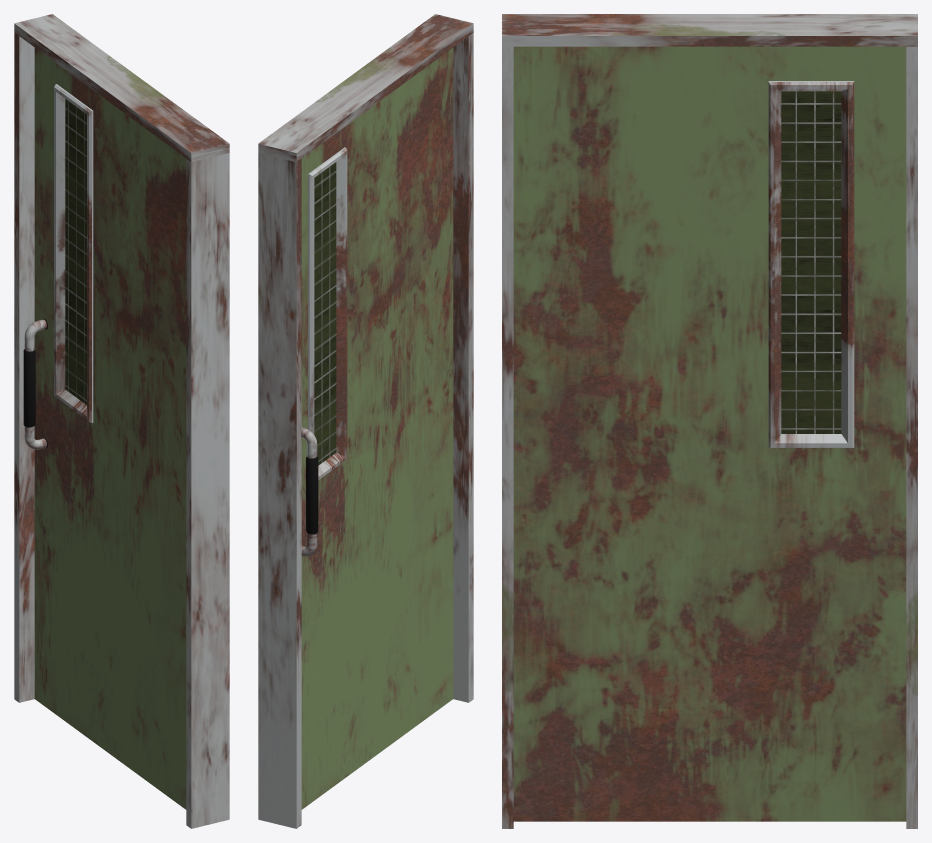
3 views of the same model, side by side, from view 1: azimuth 30°, elevation 25°; view 2: azimuth 150°, elevation 25°; view 3: azimuth 270°, elevation 25° (orthographic). The views are drawn at different scales.
Parts seen in each view (by area): view 1: PivotDoor006, Wide; view 2: PivotDoor006, Wide; view 3: PivotDoor006.
Boxes of the visible parts, box(x1,y1,x2,y2) form: PivotDoor006: box(14, 14, 229, 828); Wide: box(23, 319, 47, 449); PivotDoor006: box(258, 14, 473, 828); Wide: box(301, 427, 318, 556); PivotDoor006: box(502, 14, 917, 828).
Bounding box in the file's own units: 0.1353 × 2 × 0.9507.
1 material, 1 textured.
